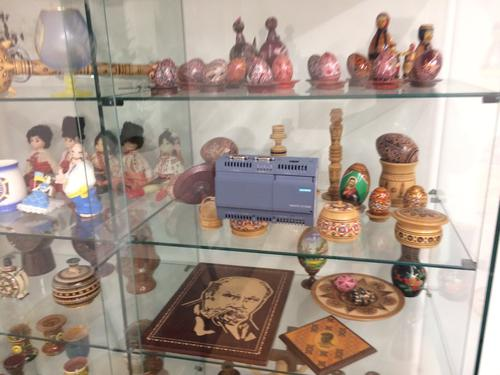iot2000: (215, 153, 320, 228)
